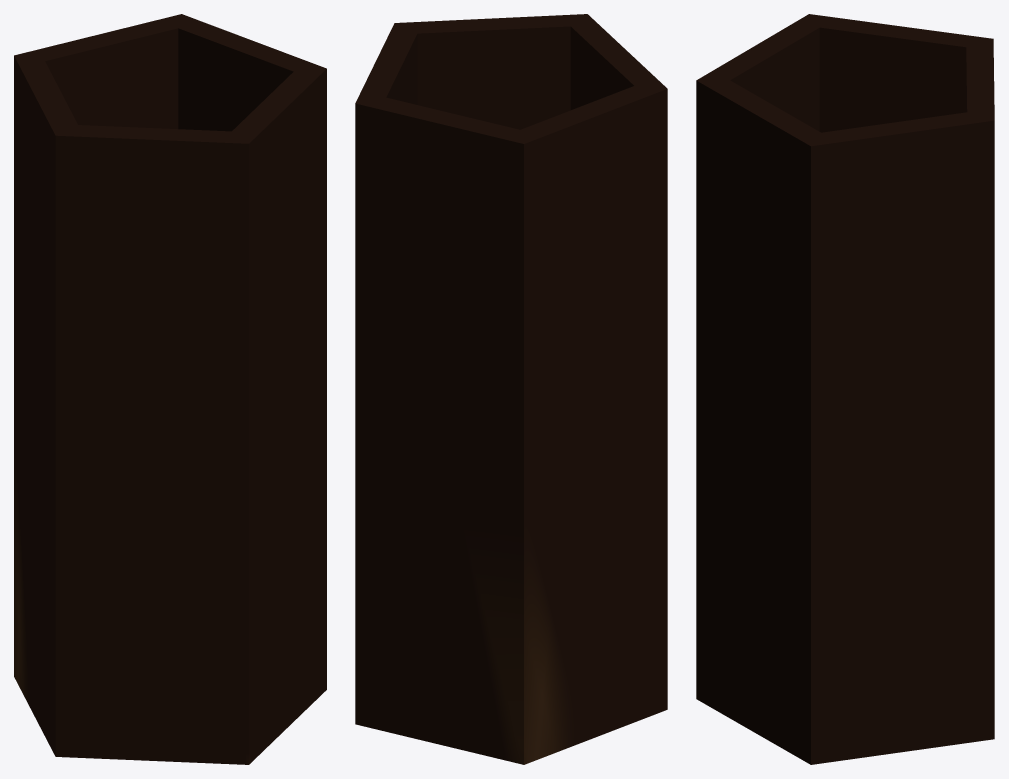
Rendered from socket_music.fbx.
3 renders of one model, left to right at view 1: azimuth 30°, elevation 25°; view 2: azimuth 150°, elevation 25°; view 3: azimuth 270°, elevation 25°, orthographic.
Visible parts, largest first — view 1: MusicBox.001; view 2: MusicBox.001; view 3: MusicBox.001.
Part boxes in pixels (<box>): MusicBox.001: <box>14,14,326,764</box>; MusicBox.001: <box>355,14,667,764</box>; MusicBox.001: <box>696,14,994,764</box>.
Size of the model in its own units: 1.08 by 2.35 by 1.03.
